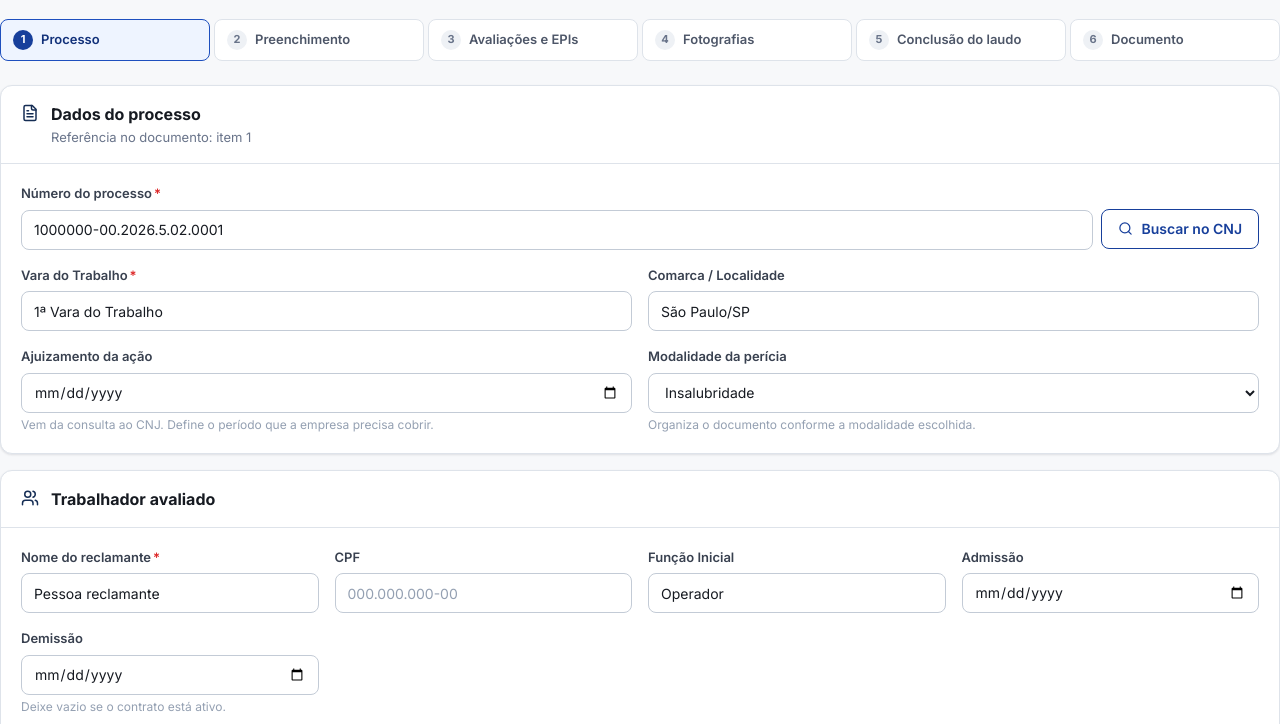
it: PericiaEditor — varredura obrigatória dos anexos › abre uma avaliação já enquadrada ao confirmar exposição no Anexo 1
The image size is (1280, 724).
Click the button "3 Avaliações e EPIs".
click(533, 40)  # box [428,18,638,60]
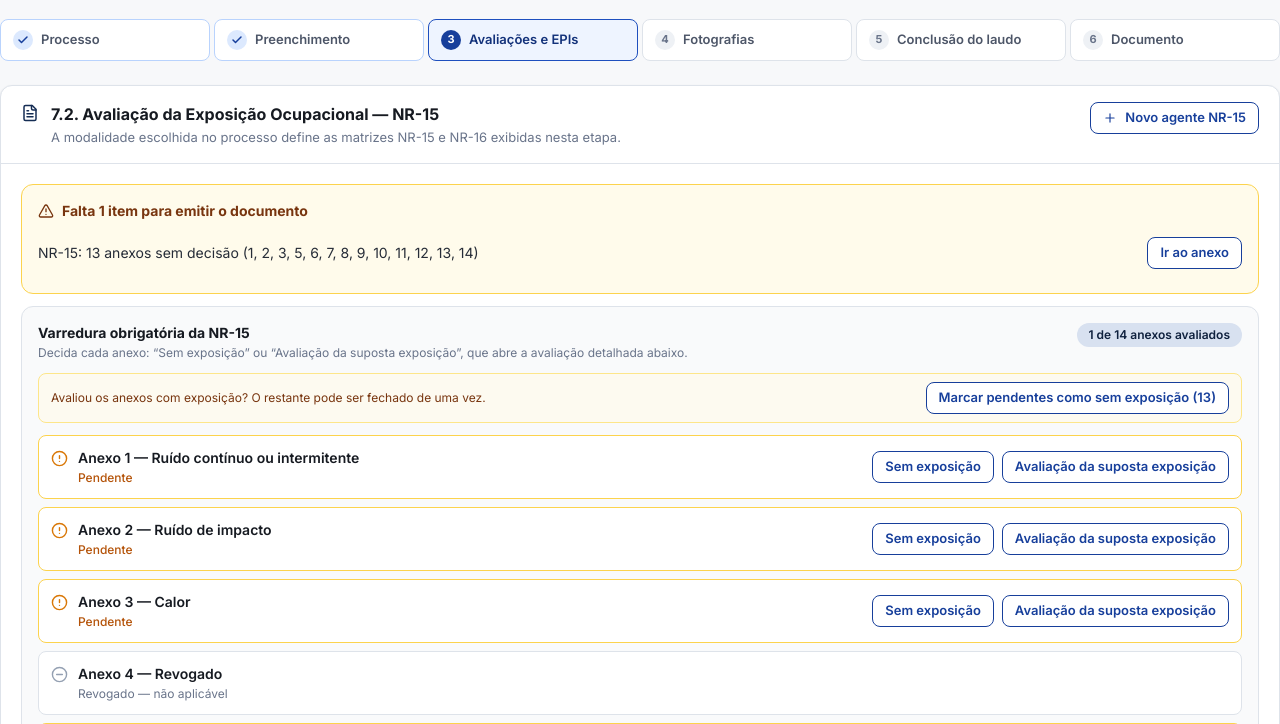
Check: the text "1 de 14 anexos avaliados" is shown, box [1076,323,1242,347]
Click the button "Avaliação da suposta exposição" in the row of "Ruído contínuo ou intermitente".
click(1115, 467)  # box [1002,451,1229,483]
(page scrolled)
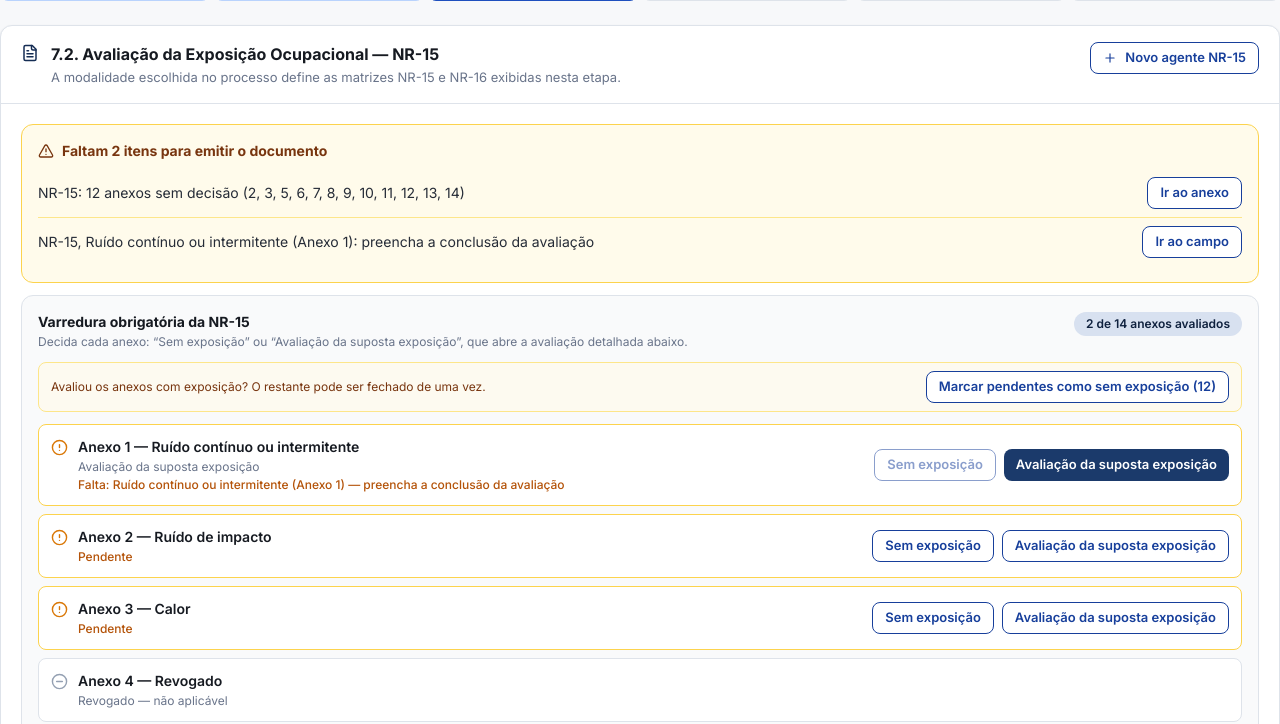
Check: the text "2 de 14 anexos avaliados" is shown, box [1074,312,1242,336]
